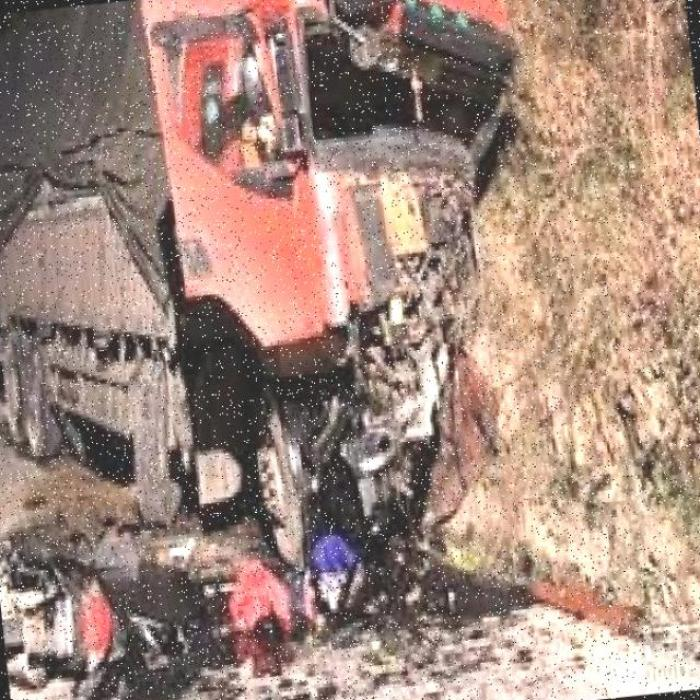Accident: (131, 0, 617, 648)
